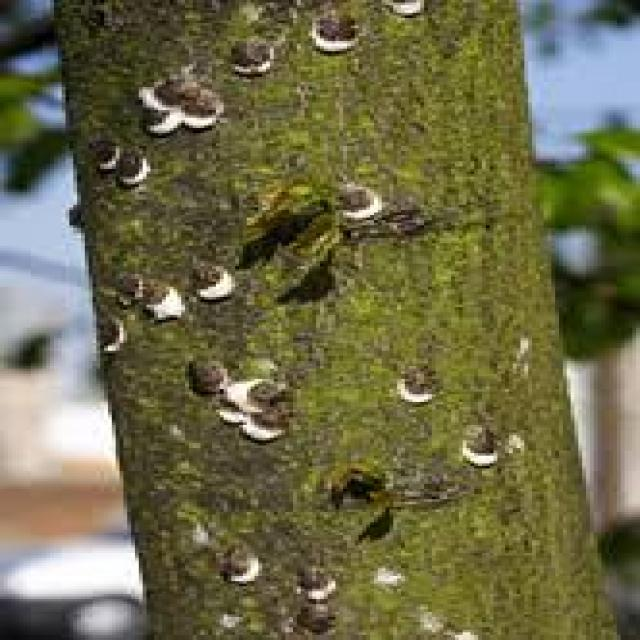scale_insect: (293, 2, 362, 56), (212, 369, 285, 417), (320, 174, 386, 223), (127, 69, 201, 110), (278, 556, 343, 602), (177, 254, 239, 302), (451, 417, 505, 471), (220, 28, 278, 77), (178, 348, 232, 397), (378, 364, 439, 407), (104, 146, 154, 192), (212, 542, 266, 584), (174, 87, 224, 131), (135, 279, 185, 323), (228, 407, 289, 443), (100, 266, 154, 302), (131, 102, 181, 136), (89, 312, 127, 356), (81, 138, 127, 174), (200, 397, 254, 427), (378, 0, 428, 23)
